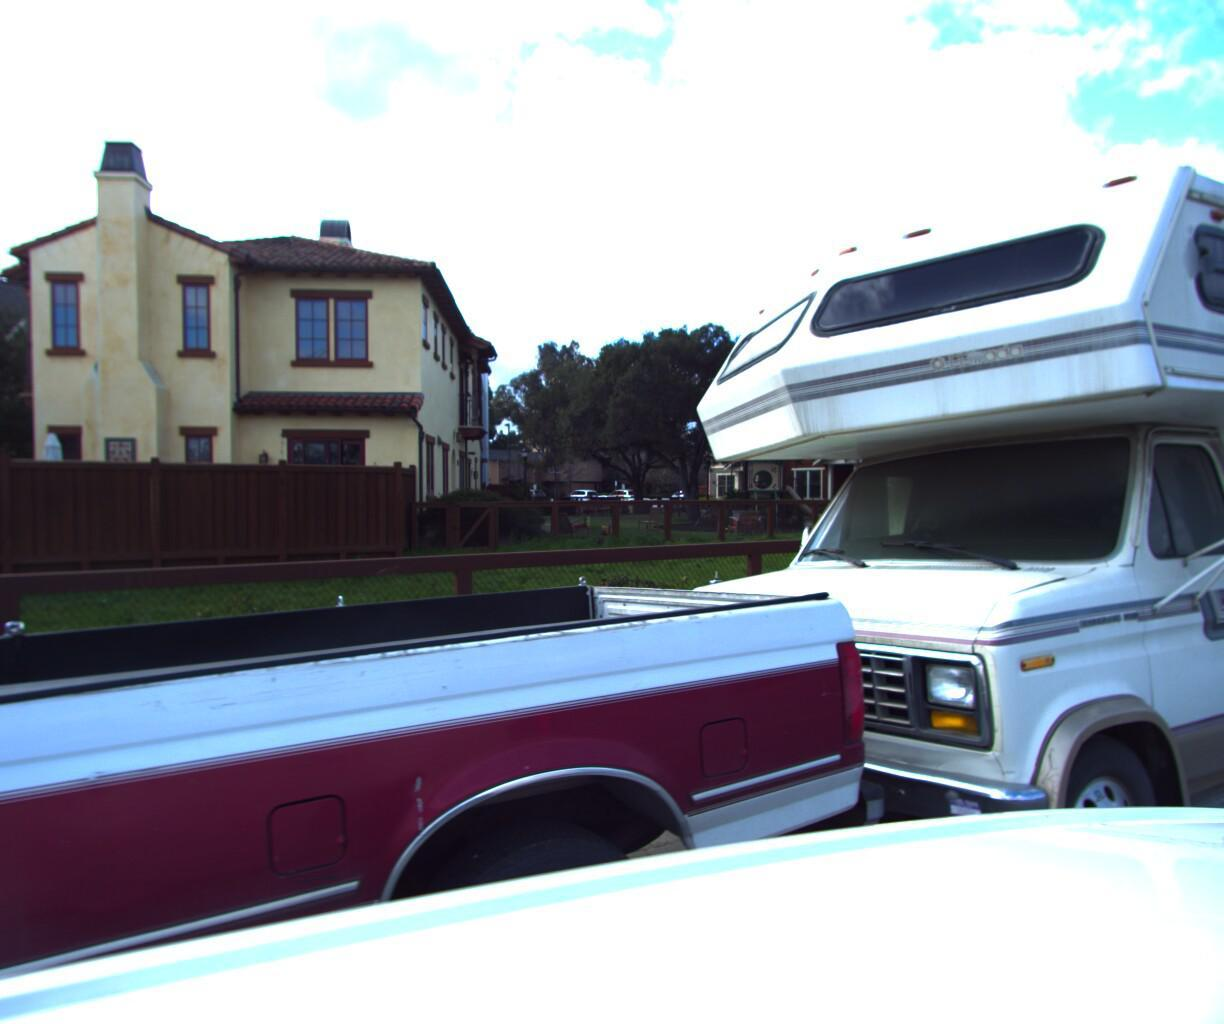car: (0, 0, 907, 1024)
other_vehicle: (574, 0, 1224, 1024)
